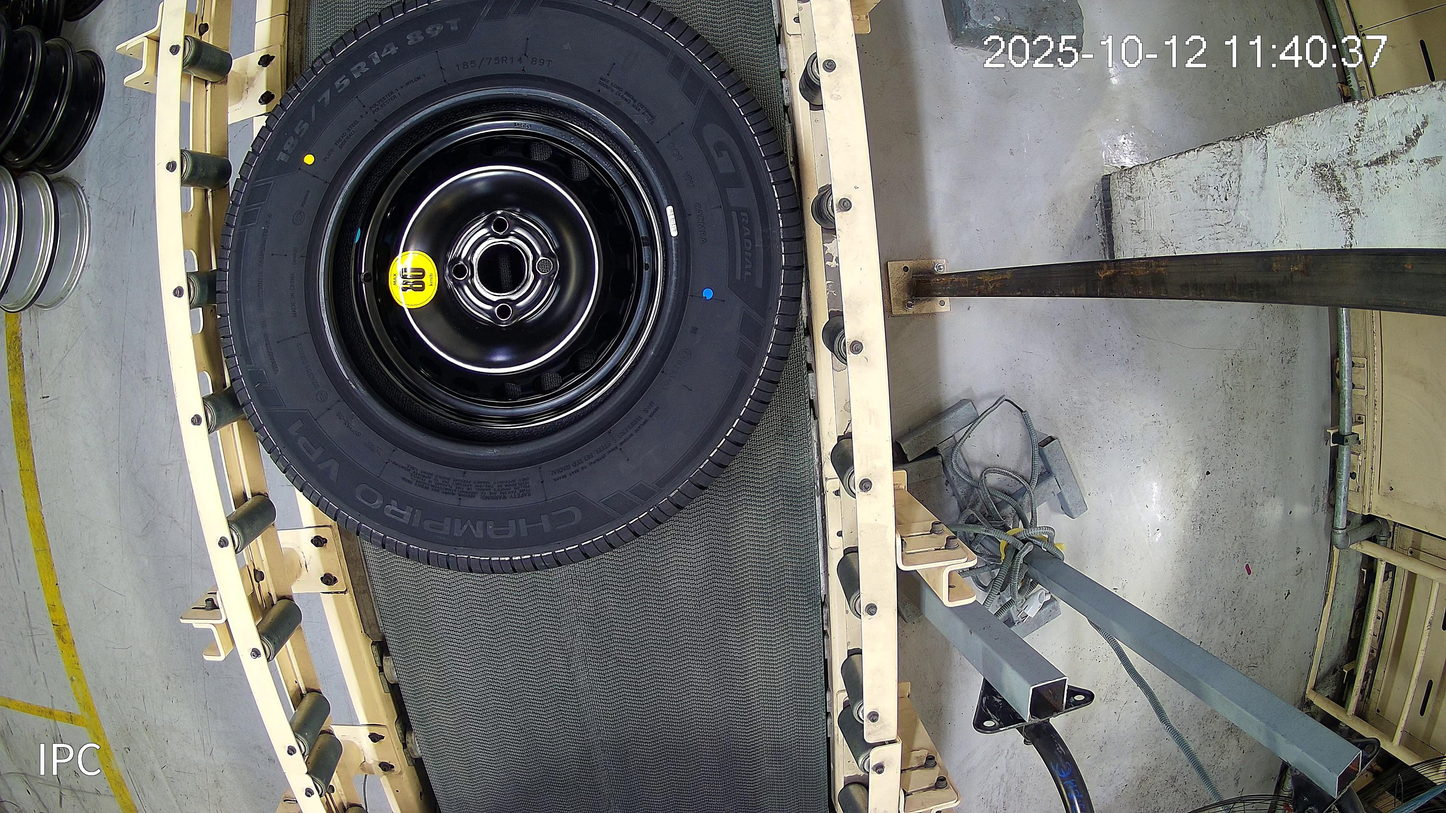80_label: (380, 246, 446, 309)
simple_wheel: (351, 104, 675, 437)
